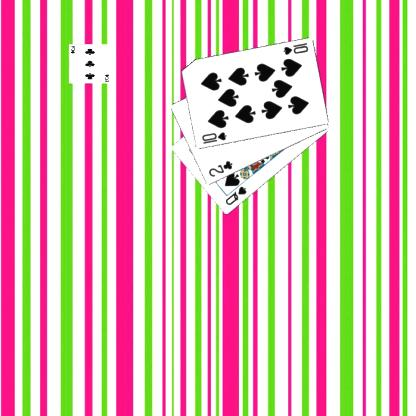10S: (199, 130, 228, 146), (280, 41, 309, 56)
2C: (206, 158, 234, 178)
QS: (222, 184, 248, 206)
